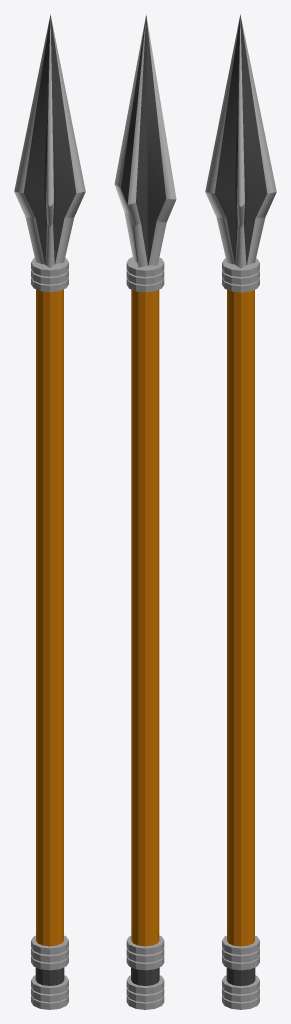
The model's file is Spear_01.fbx.
3 views of the same model, side by side, from view 1: azimuth 90°, elevation 25°; view 2: azimuth 150°, elevation 25°; view 3: azimuth 270°, elevation 25° (orthographic).
Parts seen in each view (by area): view 1: Spear_01; view 2: Spear_01; view 3: Spear_01.
Part boxes in pixels (x1,y1,x2,y2): Spear_01: (14, 14, 85, 1009); Spear_01: (114, 15, 176, 1009); Spear_01: (205, 14, 276, 1009).
Size of the model in its own units: 1.02 by 15.52 by 1.02.
